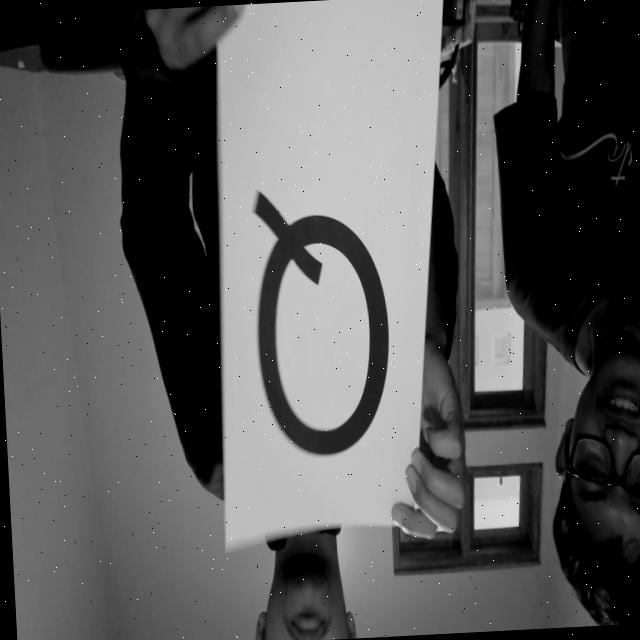q: (241, 179, 414, 485)
